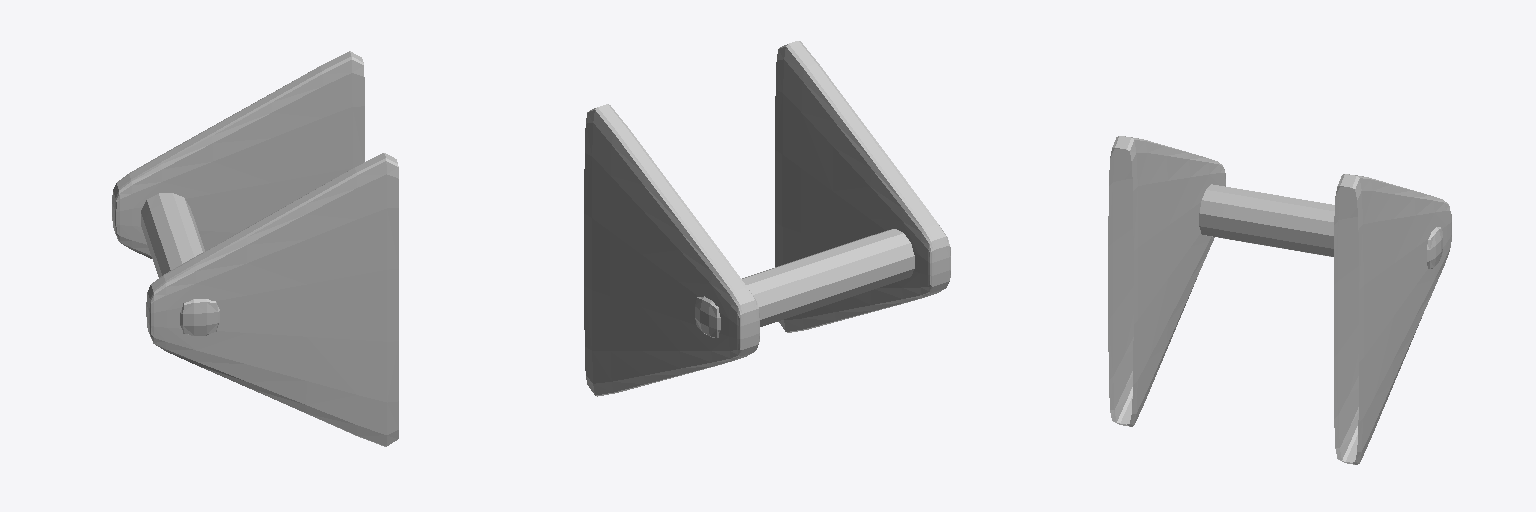
The model's file is SM EVA floodlight lanyard bracket.obj.
3 views of the same model, side by side, from view 1: azimuth 30°, elevation 25°; view 2: azimuth 150°, elevation 25°; view 3: azimuth 270°, elevation 25° (orthographic).
Parts seen in each view (by area): view 1: Mesh; view 2: Mesh; view 3: Mesh.
Boxes of the visible parts, x1,y1,x2,y2 form: Mesh: [112, 51, 398, 446]; Mesh: [584, 41, 950, 396]; Mesh: [1108, 136, 1451, 464].
Bounding box in the file's own units: 0.0741 × 0.071 × 0.0764.